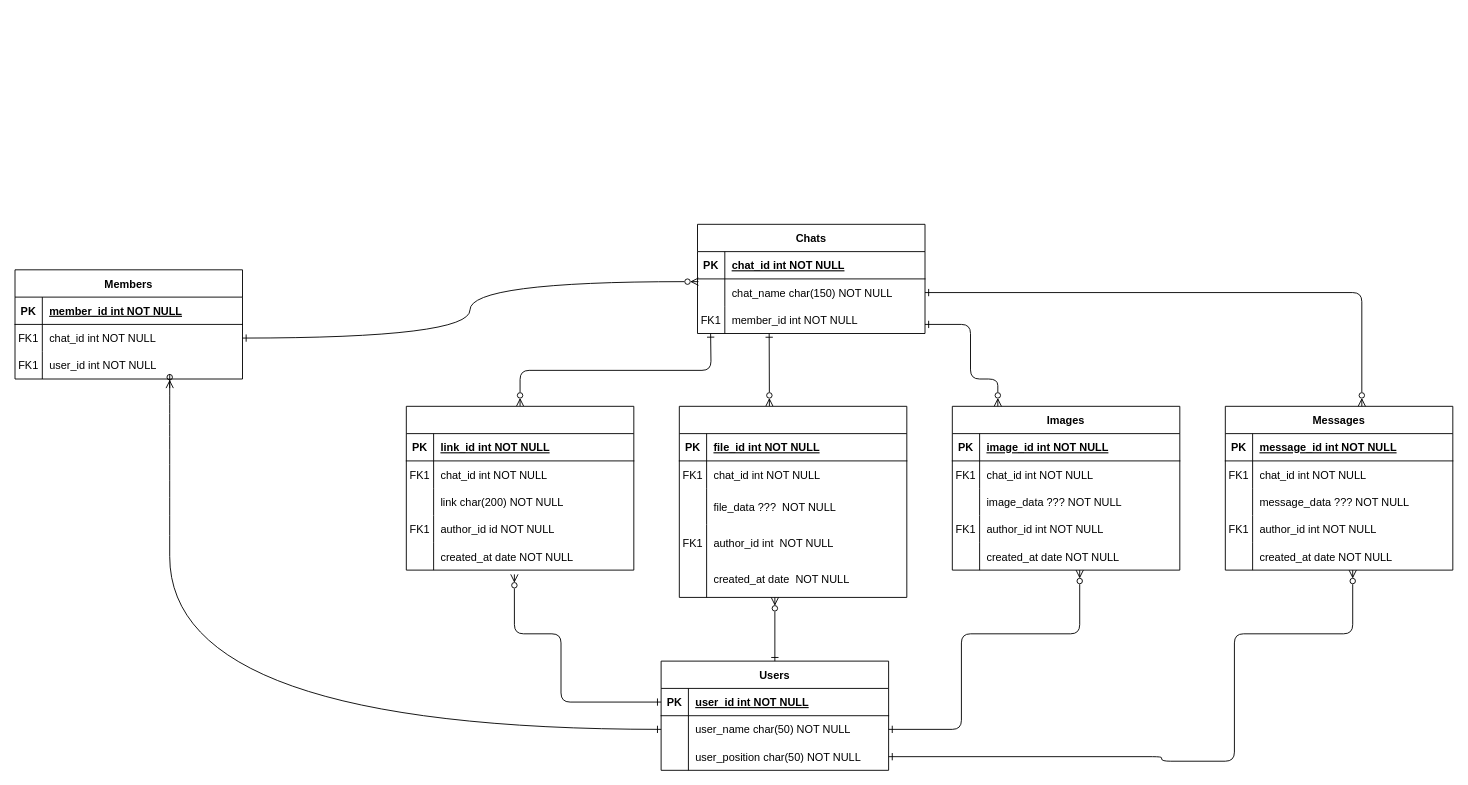
Image size: 1468x785. Some labels were removed from this diagram. Here are the shapes that lost their labels. From the top down, the box of each, then its label:
(405, 405, 634, 570): Links
(678, 405, 907, 597): Files
